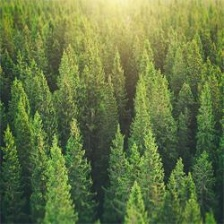neutral: (2, 1, 222, 222)
